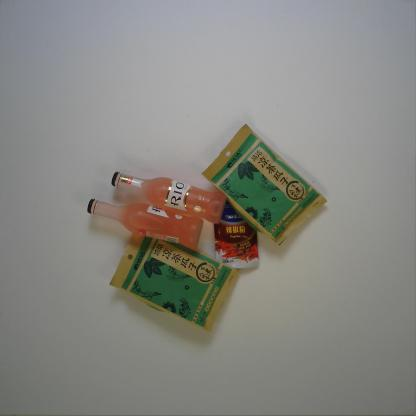Alcohol: (110, 171, 228, 225), (86, 198, 205, 250)
Dried Food: (200, 123, 328, 247), (108, 232, 241, 333)
Seasoner: (212, 198, 260, 270)
